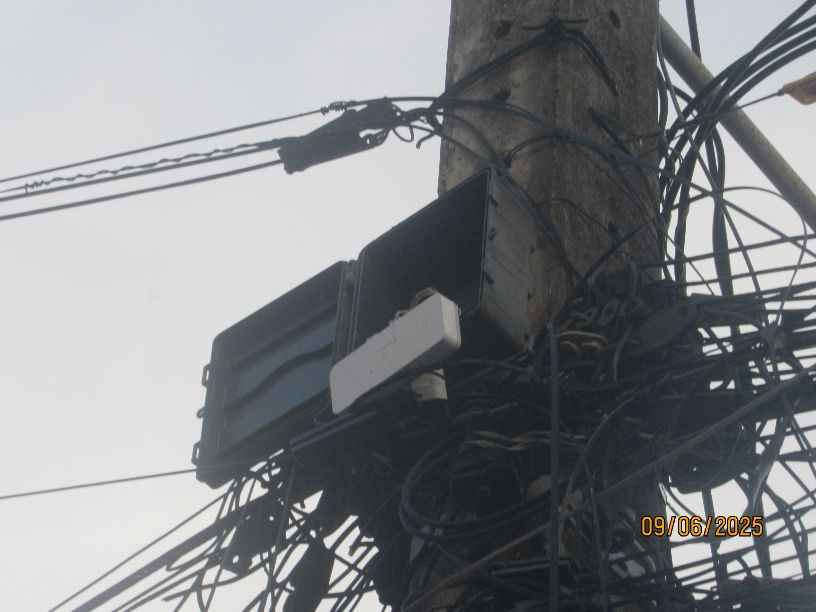caixa_derivacao: (189, 169, 565, 493)
drop: (265, 79, 420, 171), (568, 275, 697, 357)
